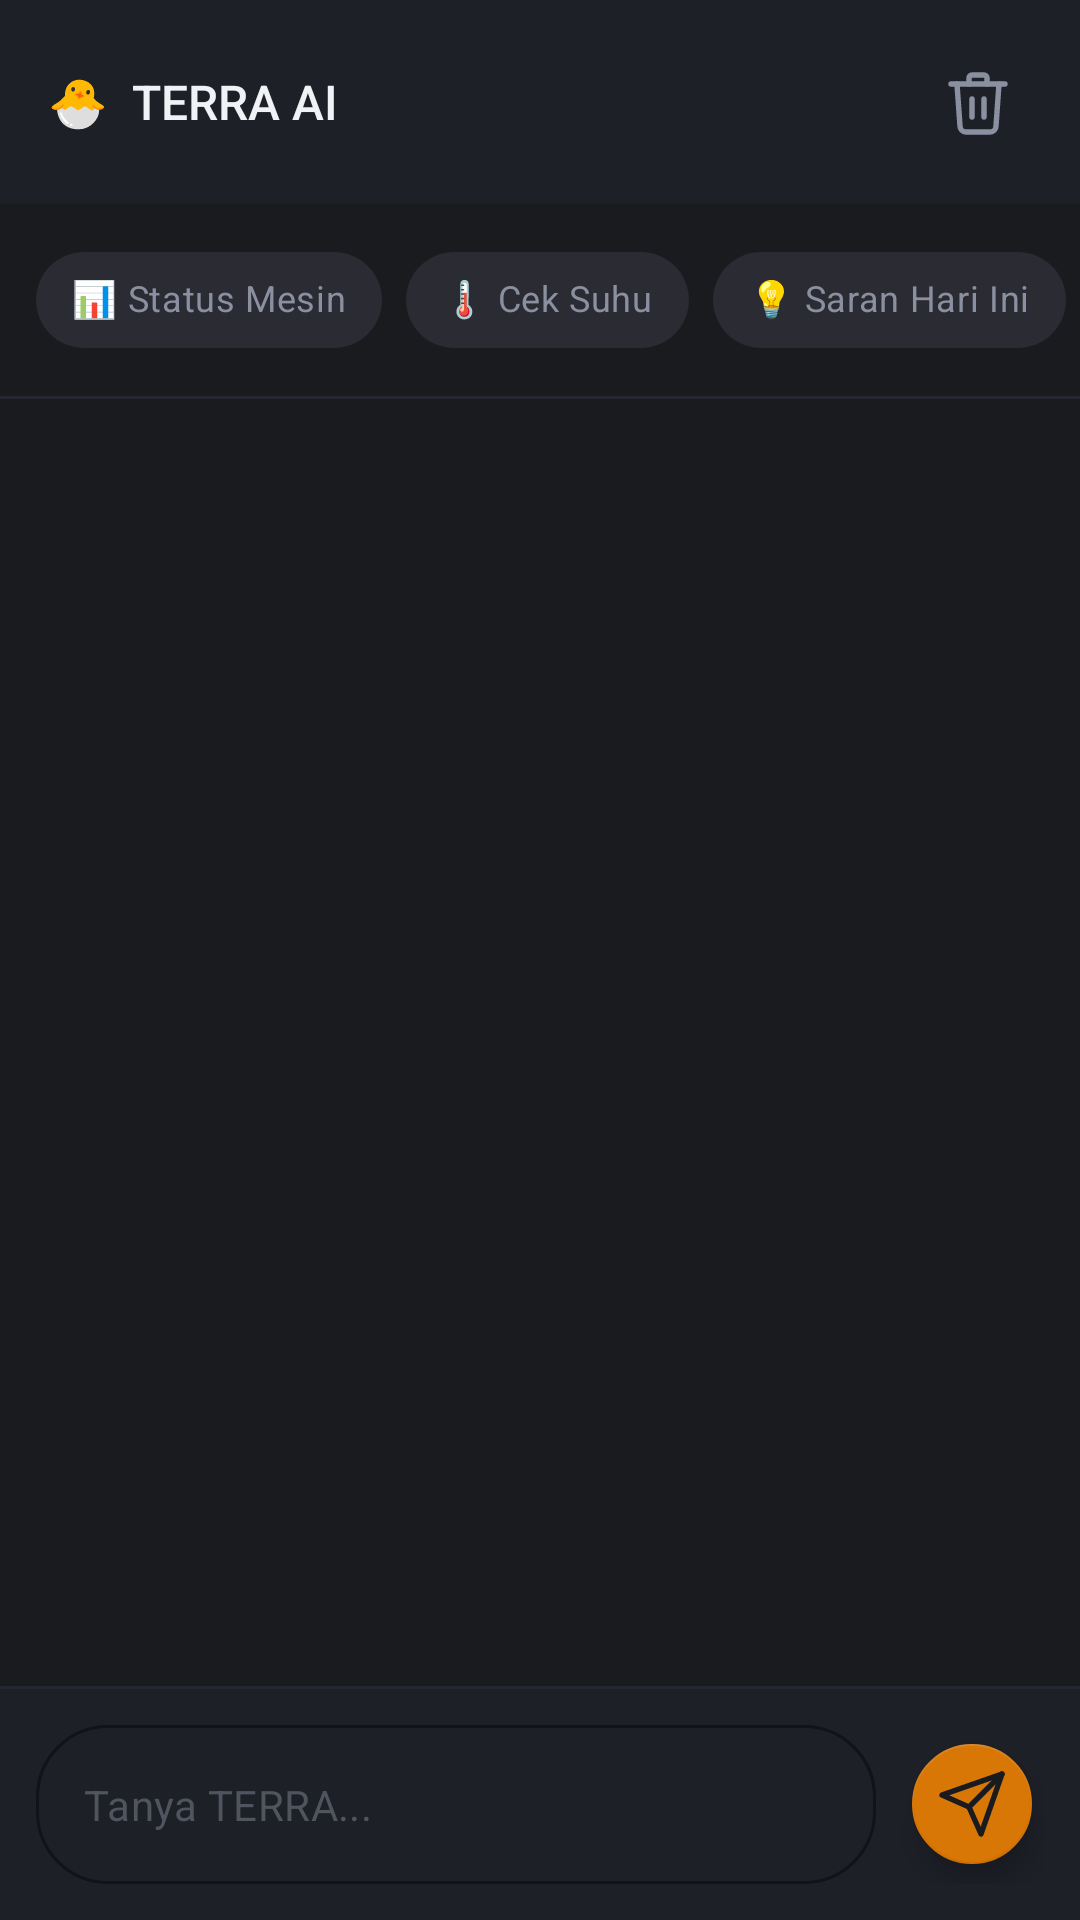

Screen size 1080w x 1920h. Icon name, then its center in pixels as [x,y]:
Hapus chat: [978,103]
send: [972,1804]
